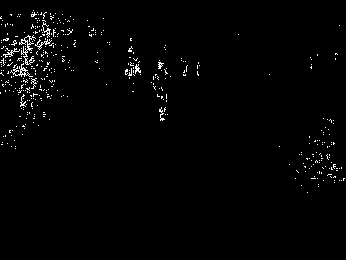person: (153, 59, 170, 123)
